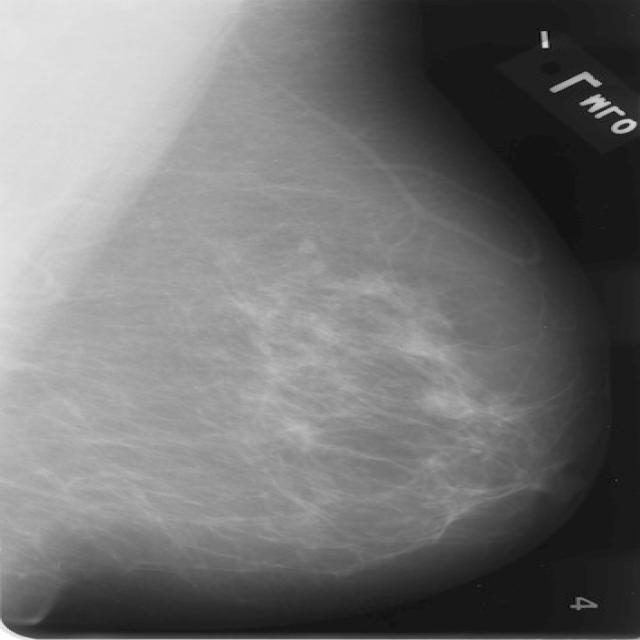tumour: (418, 388, 482, 419)
